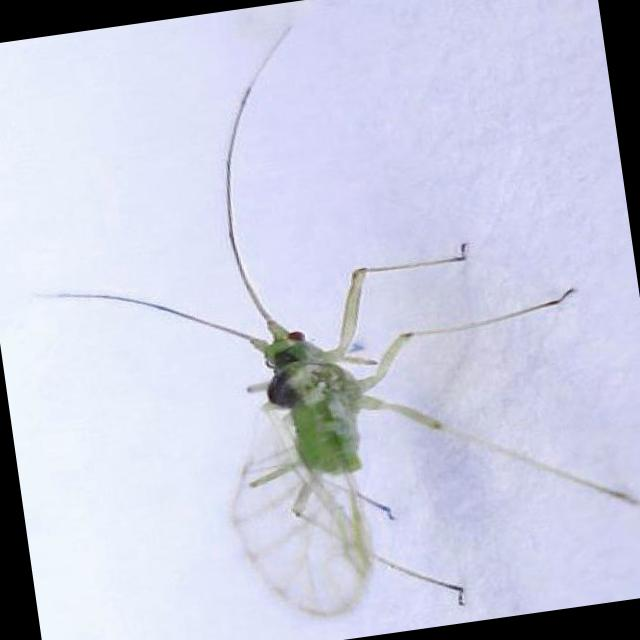aphid: (165, 154, 531, 607)
